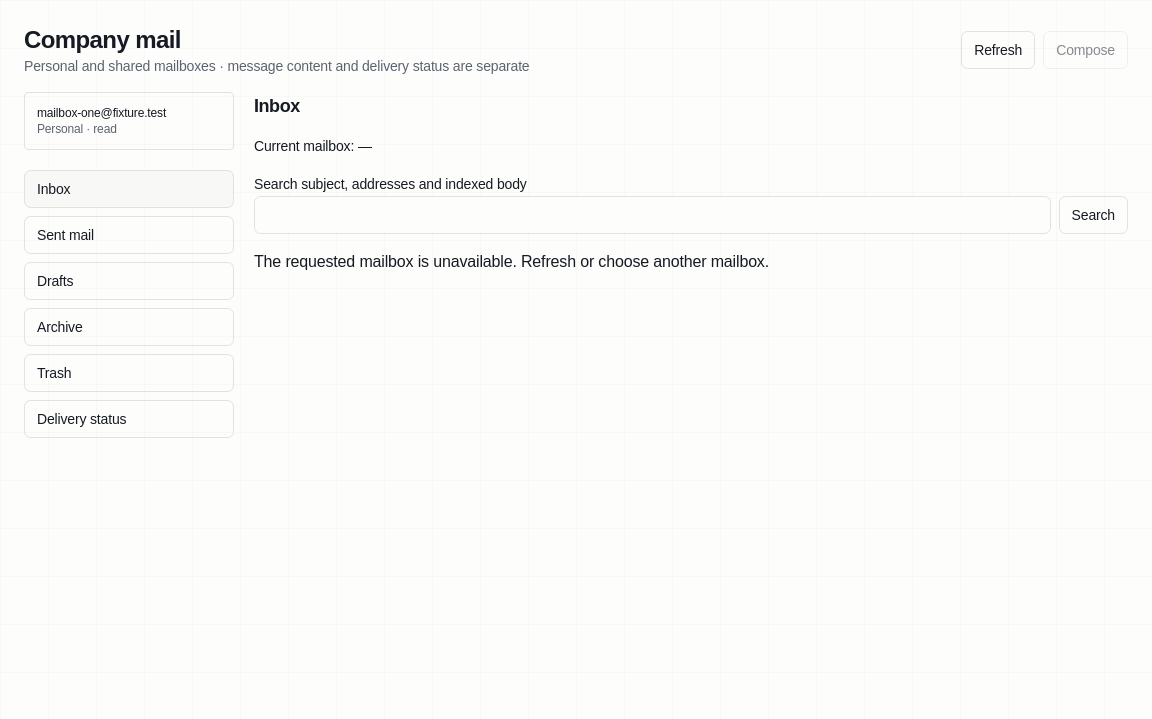
Scenario: explicit mailbox route recovery › R14 resolves the requested mailbox after an explicit refresh restores access
Expected: the button "mailbox-one@fixture.test Personal · read" is shown, top-left (24, 92), bottom-right (234, 150)
Expected: the button "Compose" is disabled, top-left (1043, 31), bottom-right (1128, 69)
Click the button "Refresh": x=998, y=50 top-left (961, 31), bottom-right (1035, 69)
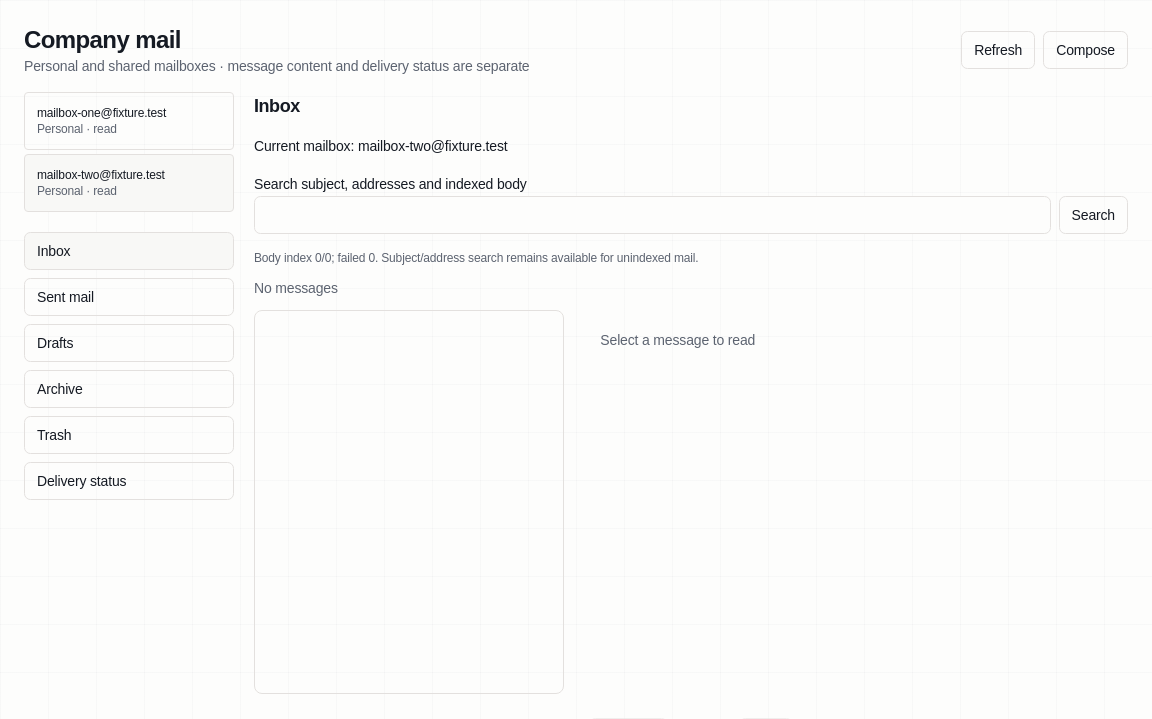
Expected: the button "Compose" is enabled, top-left (1043, 31), bottom-right (1128, 69)
